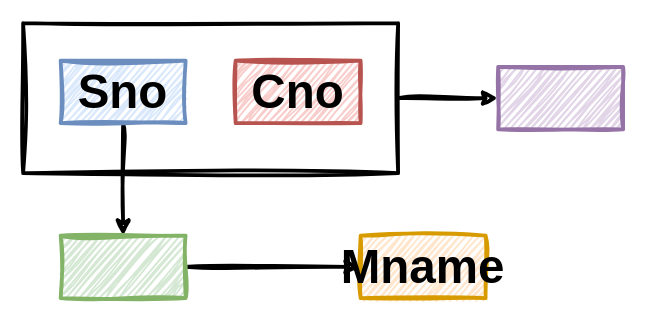
This 649x321 diagram has some shape labels left out. Here are the shapes that lost their labels. From the top down, the centre of each, then its label:
At (x=560, y=97): "Grade".
At (x=122, y=266): "Sdept".
